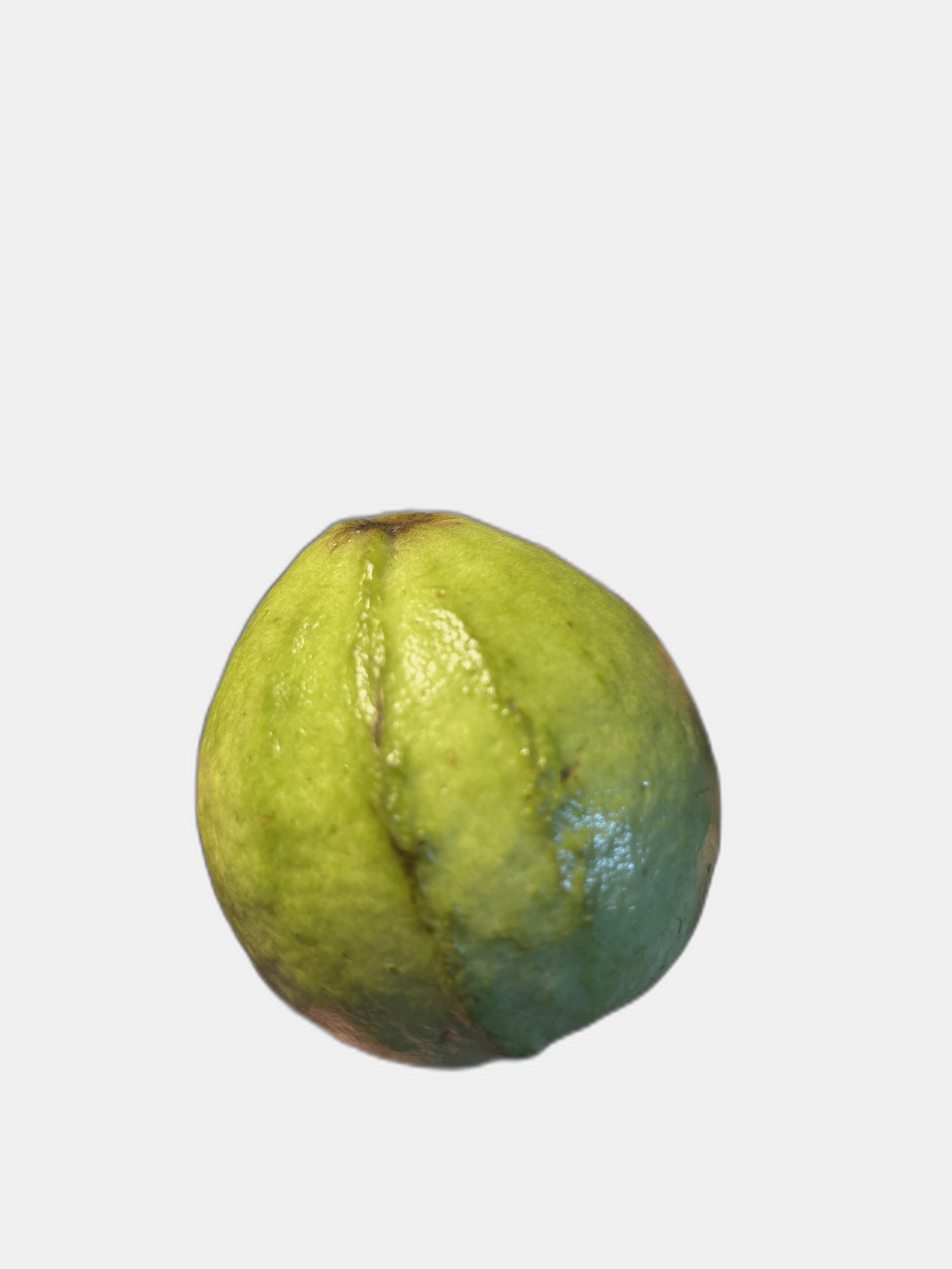guava: (94, 202, 891, 1229)
